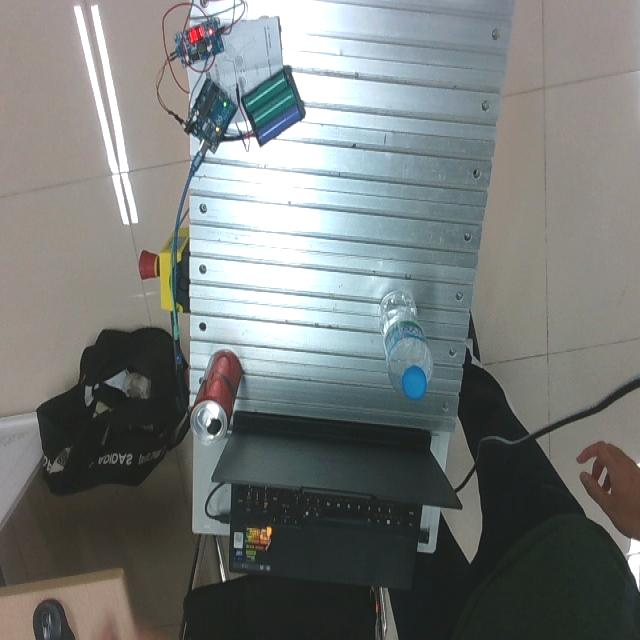coca: (188, 351, 242, 446)
lavie: (378, 289, 433, 402)
